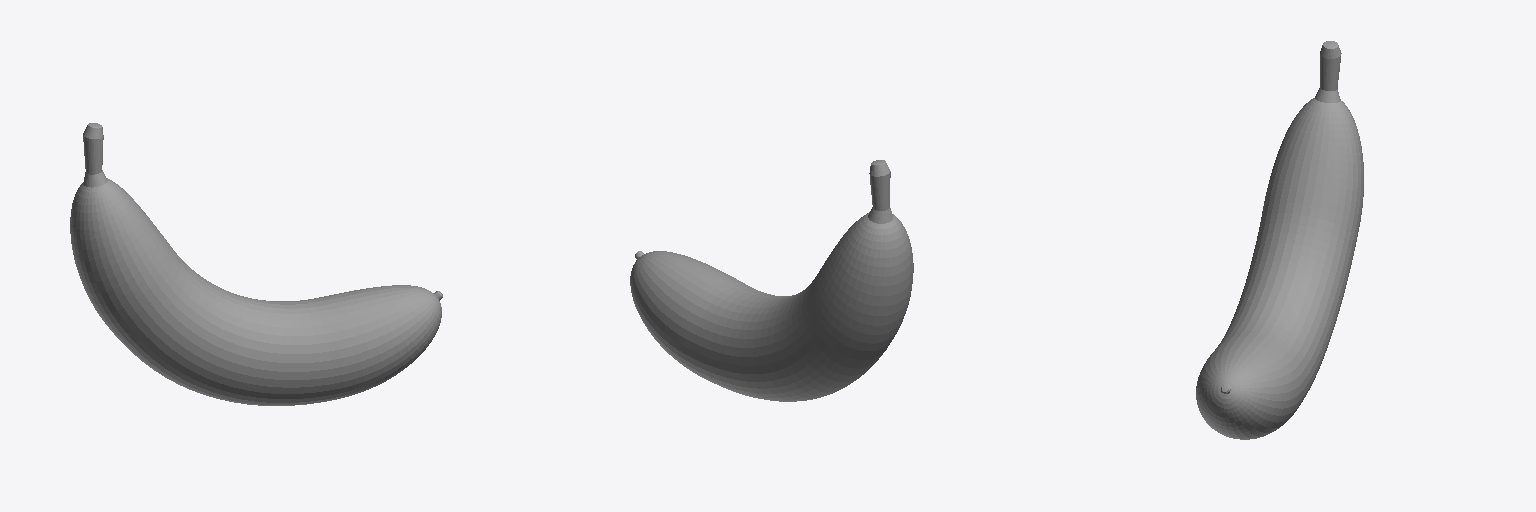
Rendered from banana1.obj.
3 views of the same model, side by side, from view 1: azimuth 30°, elevation 25°; view 2: azimuth 150°, elevation 25°; view 3: azimuth 270°, elevation 25° (orthographic).
Parts seen in each view (by area): view 1: banana_banana1; view 2: banana_banana1; view 3: banana_banana1.
Boxes of the visible parts, x1,y1,x2,y2 form: banana_banana1: [70, 123, 442, 405]; banana_banana1: [630, 160, 913, 401]; banana_banana1: [1196, 41, 1363, 439].
Bounding box in the file's own units: 0.909 × 0.7957 × 0.4145.